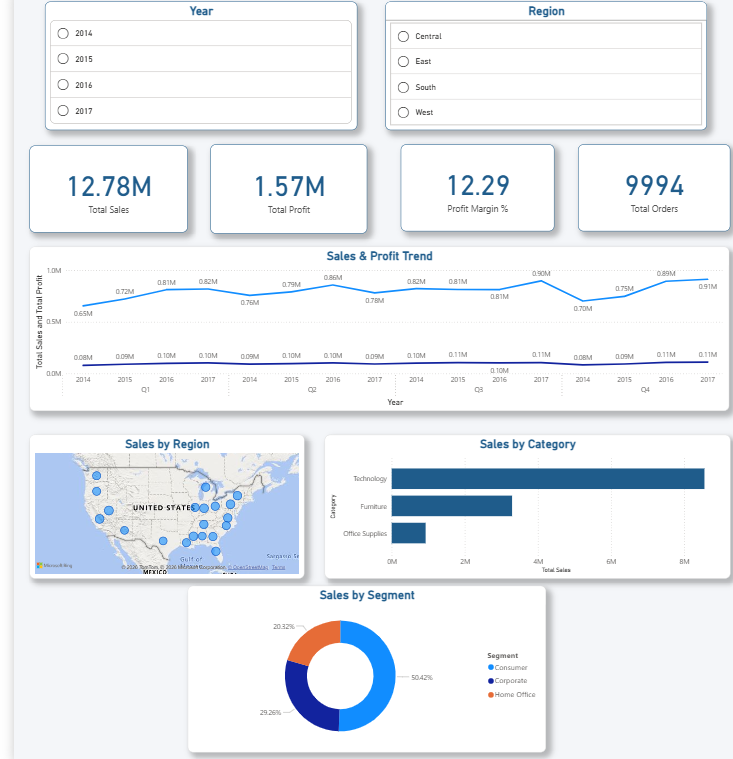

The dashboard page shown, as its layout file describes it:
{"tool":"powerbi","page":{"name":"sales overview","canvas":[1329,1400],"ordinal":0},"visuals":[{"type":"card","fields":{"Values":["Measures (2).Total Sales"]},"box":[28.1,278.7,287.4,157.7],"z":0},{"type":"card","fields":{"Values":["Measures (2).Total Profit"]},"box":[356.5,276.6,285.2,162.1],"z":1000},{"type":"card","fields":{"Values":["Measures (2).Profit Margin %"]},"box":[702.2,276.6,278.7,157.7],"z":2000},{"type":"card","fields":{"Values":["Measures (2).Total Orders"]},"box":[1024.2,276.6,276.6,157.7],"z":3000},{"type":"lineChart","title":"Sales & Profit Trend","fields":{"Y":["Measures (2).Total Sales","Measures (2).Total Profit"],"Category":["Date Table.Quarter","Date Table.Year"]},"box":[28.1,462.4,1270.5,298.2],"z":4000},{"type":"map","title":"Sales by Region","fields":{"Category":["Superstore_Sales.State"],"Size":["Measures (2).Total Sales"]},"box":[28.1,803.8,499.1,261.5],"z":5000},{"type":"clusteredBarChart","title":"Sales by Category","fields":{"Category":["Superstore_Sales.Category"],"Y":["Measures (2).Total Sales"]},"box":[564,803.8,736.8,261.5],"z":6000},{"type":"donutChart","title":" Sales by Segment","fields":{"Category":["Superstore_Sales.Segment"],"Y":["Measures (2).Total Sales"]},"box":[315.5,1078.2,650.4,302.5],"z":7000},{"type":"advancedSlicerVisual","fields":{"Values":["Date Table.Year"]},"box":[56.7,17.4,567,233.3],"z":8000},{"type":"advancedSlicerVisual","fields":{"Values":["Superstore_Sales.Region"]},"box":[673.8,17.4,584.4,233.3],"z":9000}]}

Visuals, with their boxes in screenshot pixels (x1, y1, x2, y2), scaled from the page's 1329x1400 canvas onto the 733x759 screenshot:
card - Measures (2).Total Sales: 15:151:174:237
card - Measures (2).Total Profit: 197:150:354:238
card - Measures (2).Profit Margin %: 387:150:541:235
card - Measures (2).Total Orders: 565:150:717:235
"Sales & Profit Trend" lineChart: 15:251:716:412
"Sales by Region" map: 15:436:291:578
"Sales by Category" clusteredBarChart: 311:436:717:578
" Sales by Segment" donutChart: 174:585:533:749
advancedSlicerVisual - Date Table.Year: 31:9:344:136
advancedSlicerVisual - Superstore_Sales.Region: 372:9:694:136
